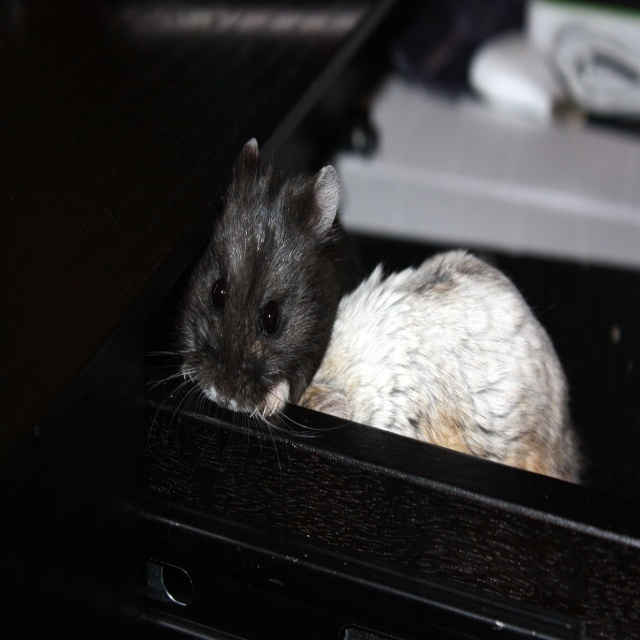Mouse: (144, 135, 356, 469)
